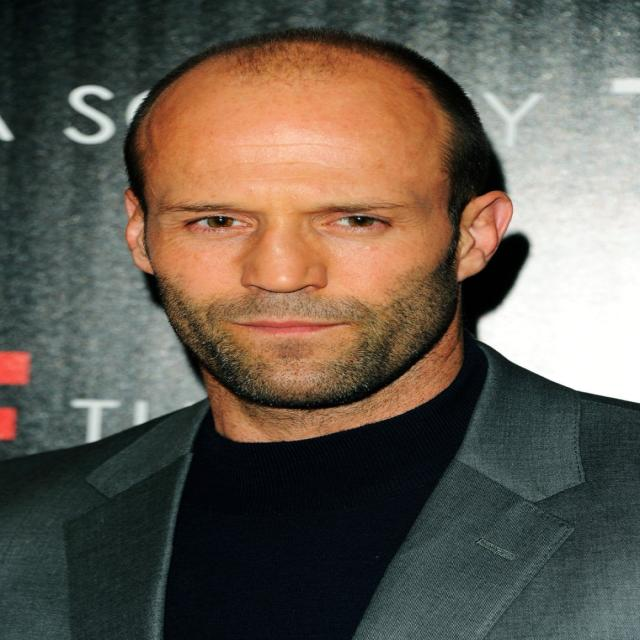no_helmet: (87, 14, 550, 247)
